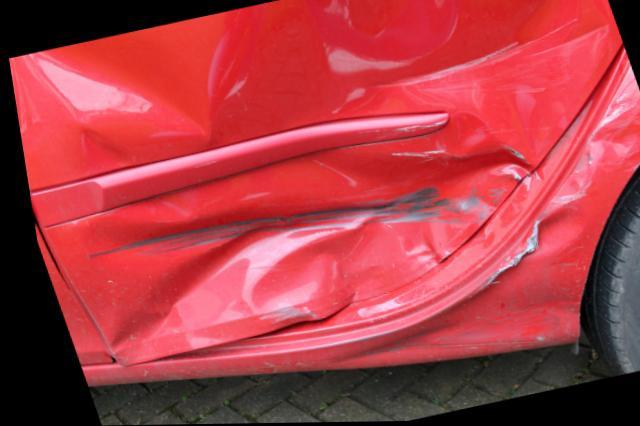dent: (20, 0, 611, 355), (428, 82, 640, 349)
